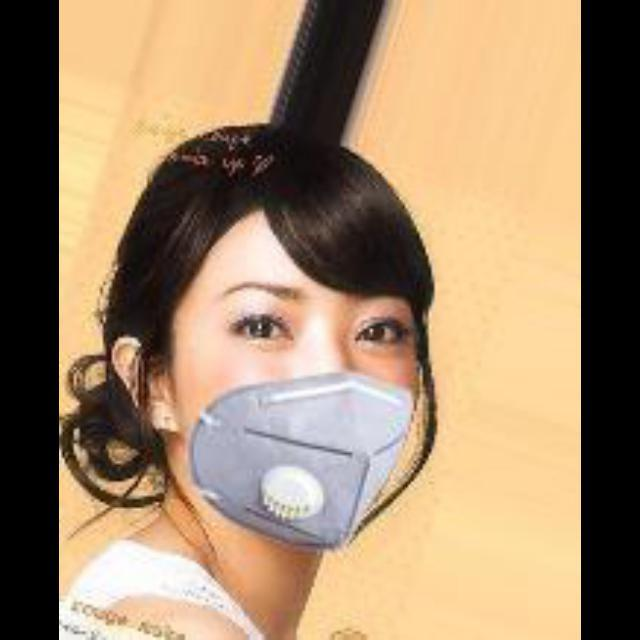suspicion: (134, 202, 460, 560)
